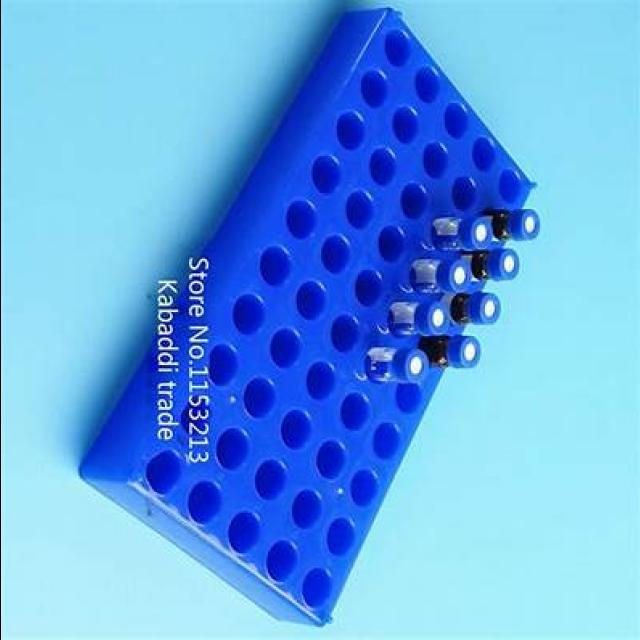vial: (444, 260, 474, 298), (402, 351, 430, 385), (474, 290, 499, 328), (424, 304, 450, 339), (465, 217, 491, 252), (456, 338, 480, 374), (516, 210, 540, 243), (498, 250, 520, 282)
